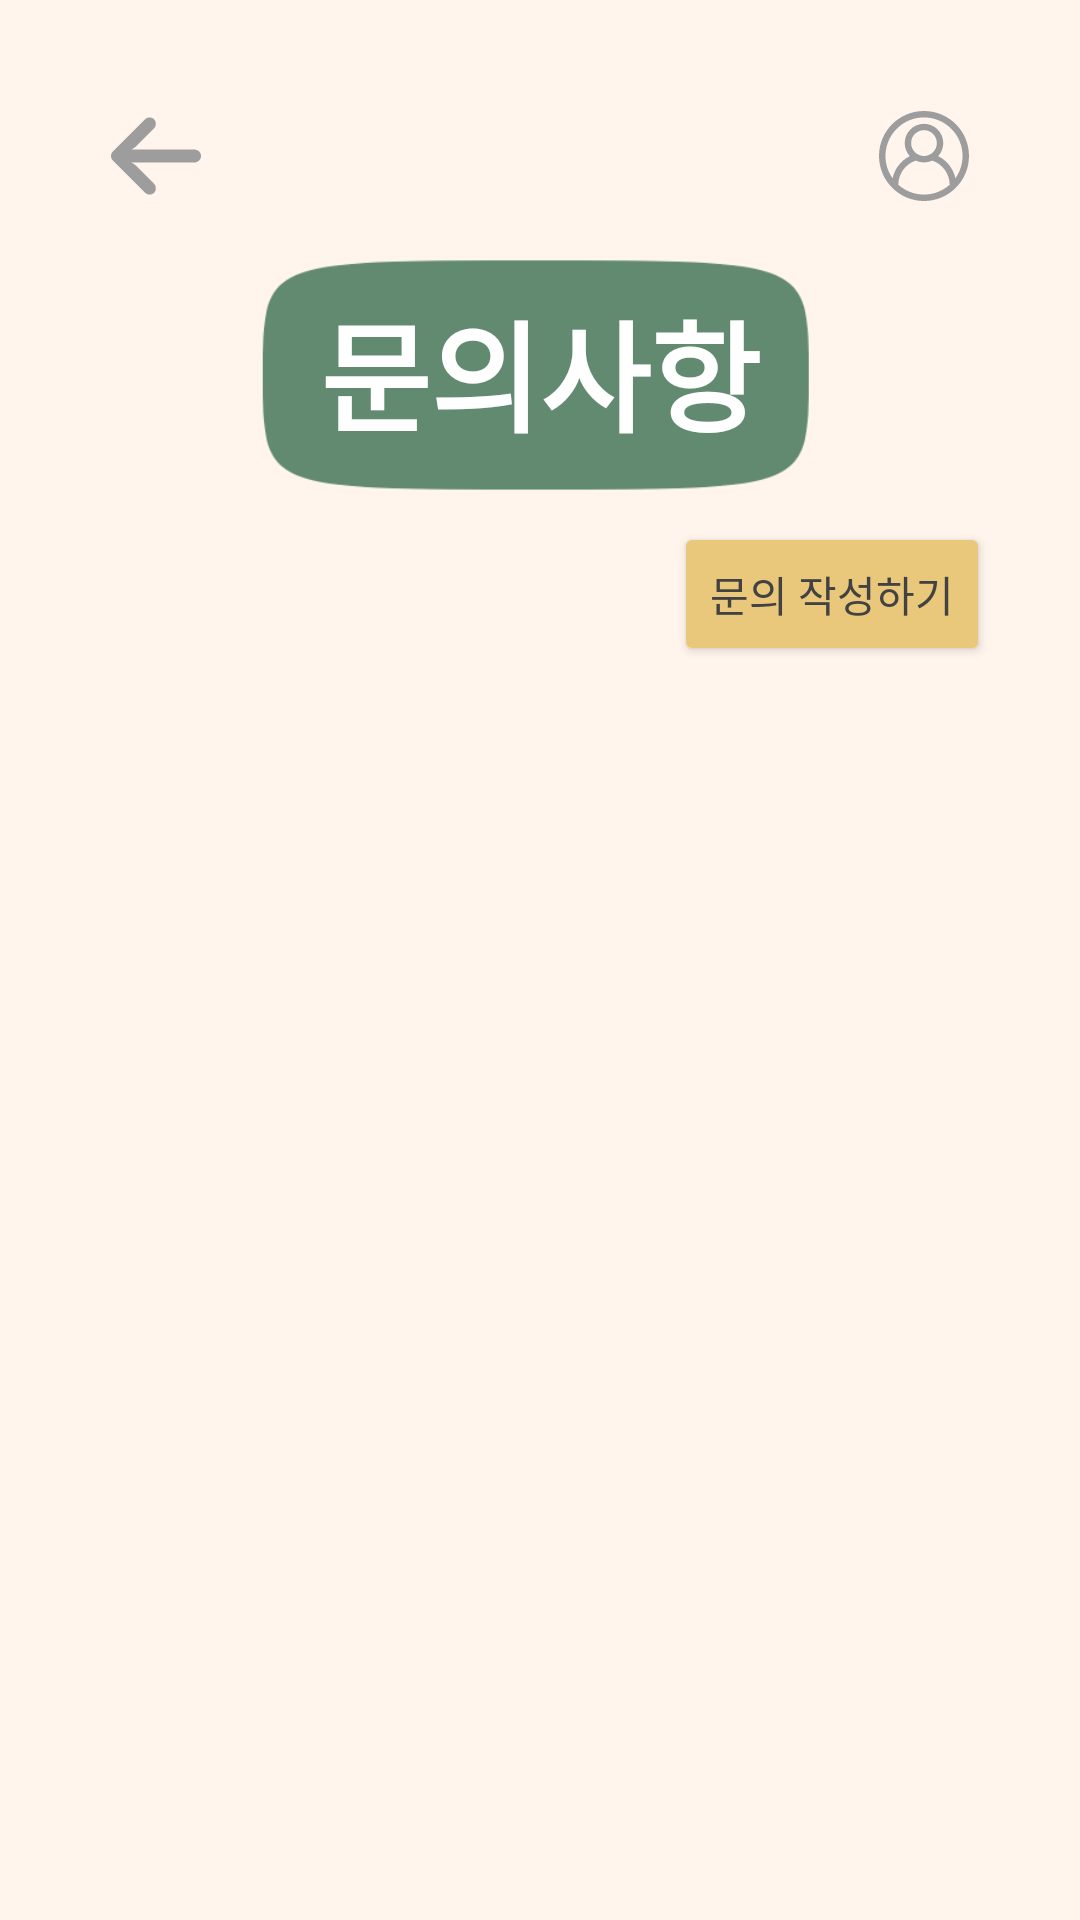

Screen size 1080×1920. Icon name, then its box in pixels as (x1, y1, x2, y2):
left arrow: (111, 117, 201, 195)
